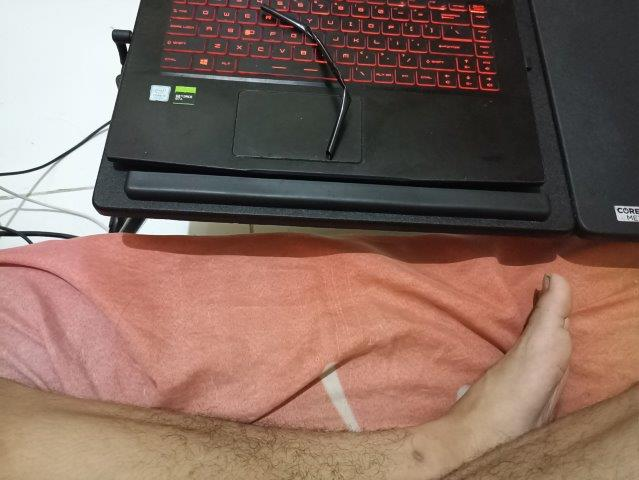sedotan: (262, 4, 351, 158)
